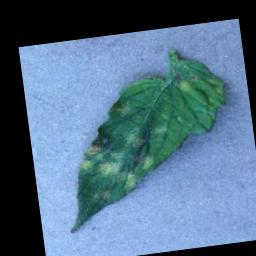Leaf_Mold: (76, 128, 160, 196)
